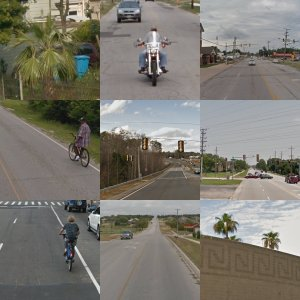樓梯: (39, 112, 99, 189)
汽車: (100, 133, 156, 171), (34, 251, 72, 280), (70, 230, 100, 258), (9, 238, 37, 261), (131, 271, 155, 290), (151, 113, 173, 128), (202, 178, 219, 194)
消防栓: (244, 1, 292, 69), (221, 249, 261, 300), (18, 42, 51, 88)
